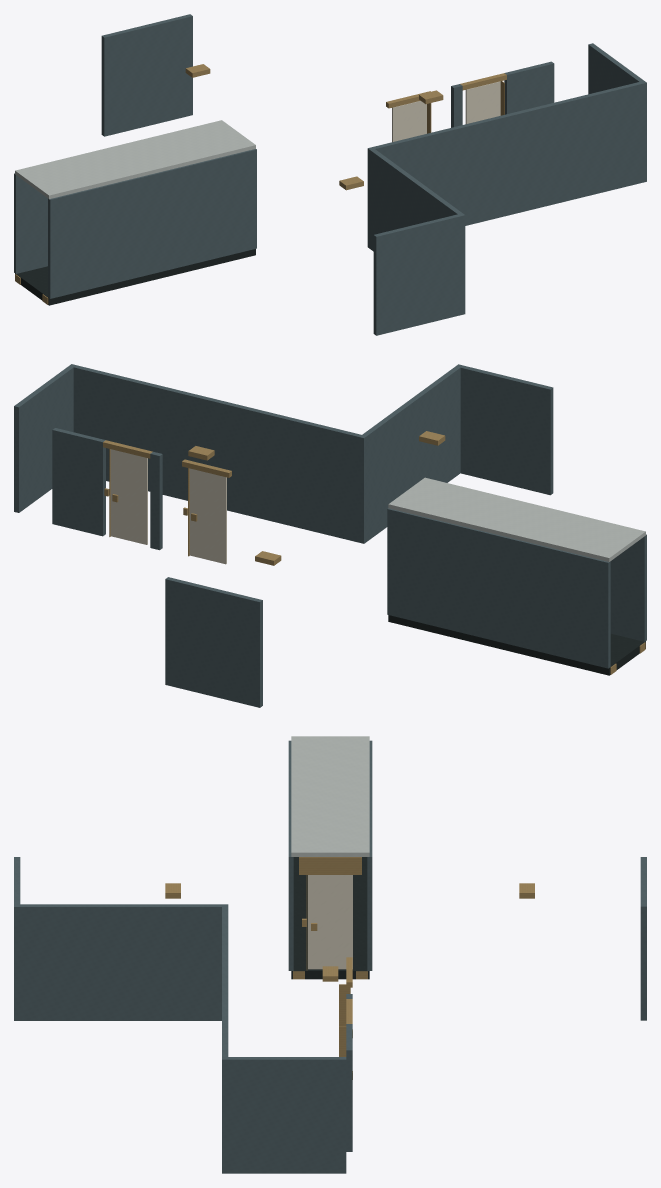
The model's file is D04_PORT_CENTRAL_COMMONS_REAR_ROUTE_r002.glb.
3 renders of one model, top to bottom at view 1: azimuth 30°, elevation 25°; view 2: azimuth 150°, elevation 25°; view 3: azimuth 270°, elevation 25°, orthographic. The views are drawn at different scales.
Visible parts, largest first — view 1: PCR_FrontGuestBoundary, PCR_BridgeWall1, PCR_RearNorthEnd, PCR_RearSouthEnd, PCR_BridgeRoof, PCR_RearQuietBoundary, PCR_BridgeWall-1, PCR_BridgeFloor, PCR_StockFrontFillEast, PCR_EastGuestBoundary, PCR_G2_D04PC_CourtSouth_Leaf, PCR_G1_D04PC_CourtSouth_Leaf (+1 smaller); view 2: PCR_FrontGuestBoundary, PCR_BridgeWall-1, PCR_RearSouthEnd, PCR_RearNorthEnd, PCR_RearQuietBoundary, PCR_BridgeRoof, PCR_EastGuestBoundary, PCR_StockFrontFillEast, PCR_BridgeWall1, PCR_G2_D04PC_CourtSouth_Leaf, PCR_G1_D04PC_CourtSouth_Leaf, PCR_BridgeFloor (+1 smaller); view 3: PCR_RearQuietBoundary, PCR_EastGuestBoundary, PCR_BridgeRoof, PCR_G0_D04PC_CourtSouth_Leaf, PCR_BridgeFloor, PCR_FrontGuestBoundary, PCR_BridgeWall-1, PCR_BridgeWall1, PCR_RearSouthEnd, PCR_RearPortalHeader, PCR_StockFrontFillEast, PCR_RearNorthEnd.
Part boxes in pixels (<box>): PCR_FrontGuestBoundary: <box>367,82,646,246</box>; PCR_BridgeWall1: <box>48,149,256,298</box>; PCR_RearNorthEnd: <box>373,214,465,335</box>; PCR_RearSouthEnd: <box>101,14,192,136</box>; PCR_BridgeRoof: <box>15,120,255,199</box>; PCR_RearQuietBoundary: <box>367,147,463,251</box>; PCR_BridgeWall-1: <box>14,173,47,273</box>; PCR_BridgeFloor: <box>15,249,255,305</box>; PCR_StockFrontFillEast: <box>504,61,554,114</box>; PCR_EastGuestBoundary: <box>588,43,646,181</box>; PCR_G2_D04PC_CourtSouth_Leaf: <box>465,81,500,123</box>; PCR_G1_D04PC_CourtSouth_Leaf: <box>392,101,426,142</box>; PCR_FrontGuestBoundary: <box>69,364,366,542</box>; PCR_BridgeWall-1: <box>387,508,610,668</box>; PCR_RearSouthEnd: <box>165,577,262,707</box>; PCR_RearNorthEnd: <box>457,364,553,495</box>; PCR_RearQuietBoundary: <box>359,365,461,543</box>; PCR_BridgeRoof: <box>388,477,645,561</box>; PCR_EastGuestBoundary: <box>14,364,75,512</box>; PCR_StockFrontFillEast: <box>52,428,105,536</box>; PCR_BridgeWall1: <box>610,534,646,641</box>; PCR_G2_D04PC_CourtSouth_Leaf: <box>110,449,147,544</box>; PCR_G1_D04PC_CourtSouth_Leaf: <box>189,468,226,564</box>; PCR_BridgeFloor: <box>388,615,645,675</box>; PCR_RearQuietBoundary: <box>16,904,228,1020</box>; PCR_EastGuestBoundary: <box>222,1057,346,1173</box>; PCR_BridgeRoof: <box>291,736,369,856</box>; PCR_G0_D04PC_CourtSouth_Leaf: <box>308,875,352,969</box>; PCR_BridgeFloor: <box>291,857,369,979</box>; PCR_FrontGuestBoundary: <box>222,905,228,1173</box>; PCR_BridgeWall-1: <box>367,740,372,970</box>; PCR_BridgeWall1: <box>288,740,293,970</box>; PCR_RearSouthEnd: <box>640,857,646,1020</box>; PCR_RearPortalHeader: <box>299,857,361,874</box>; PCR_StockFrontFillEast: <box>346,1024,352,1151</box>; PCR_RearNorthEnd: <box>14,857,20,1020</box>.
Size of the model in its own units: 19.24 by 3.56 by 16.1.
Materials: 7 (7 with a texture image).
